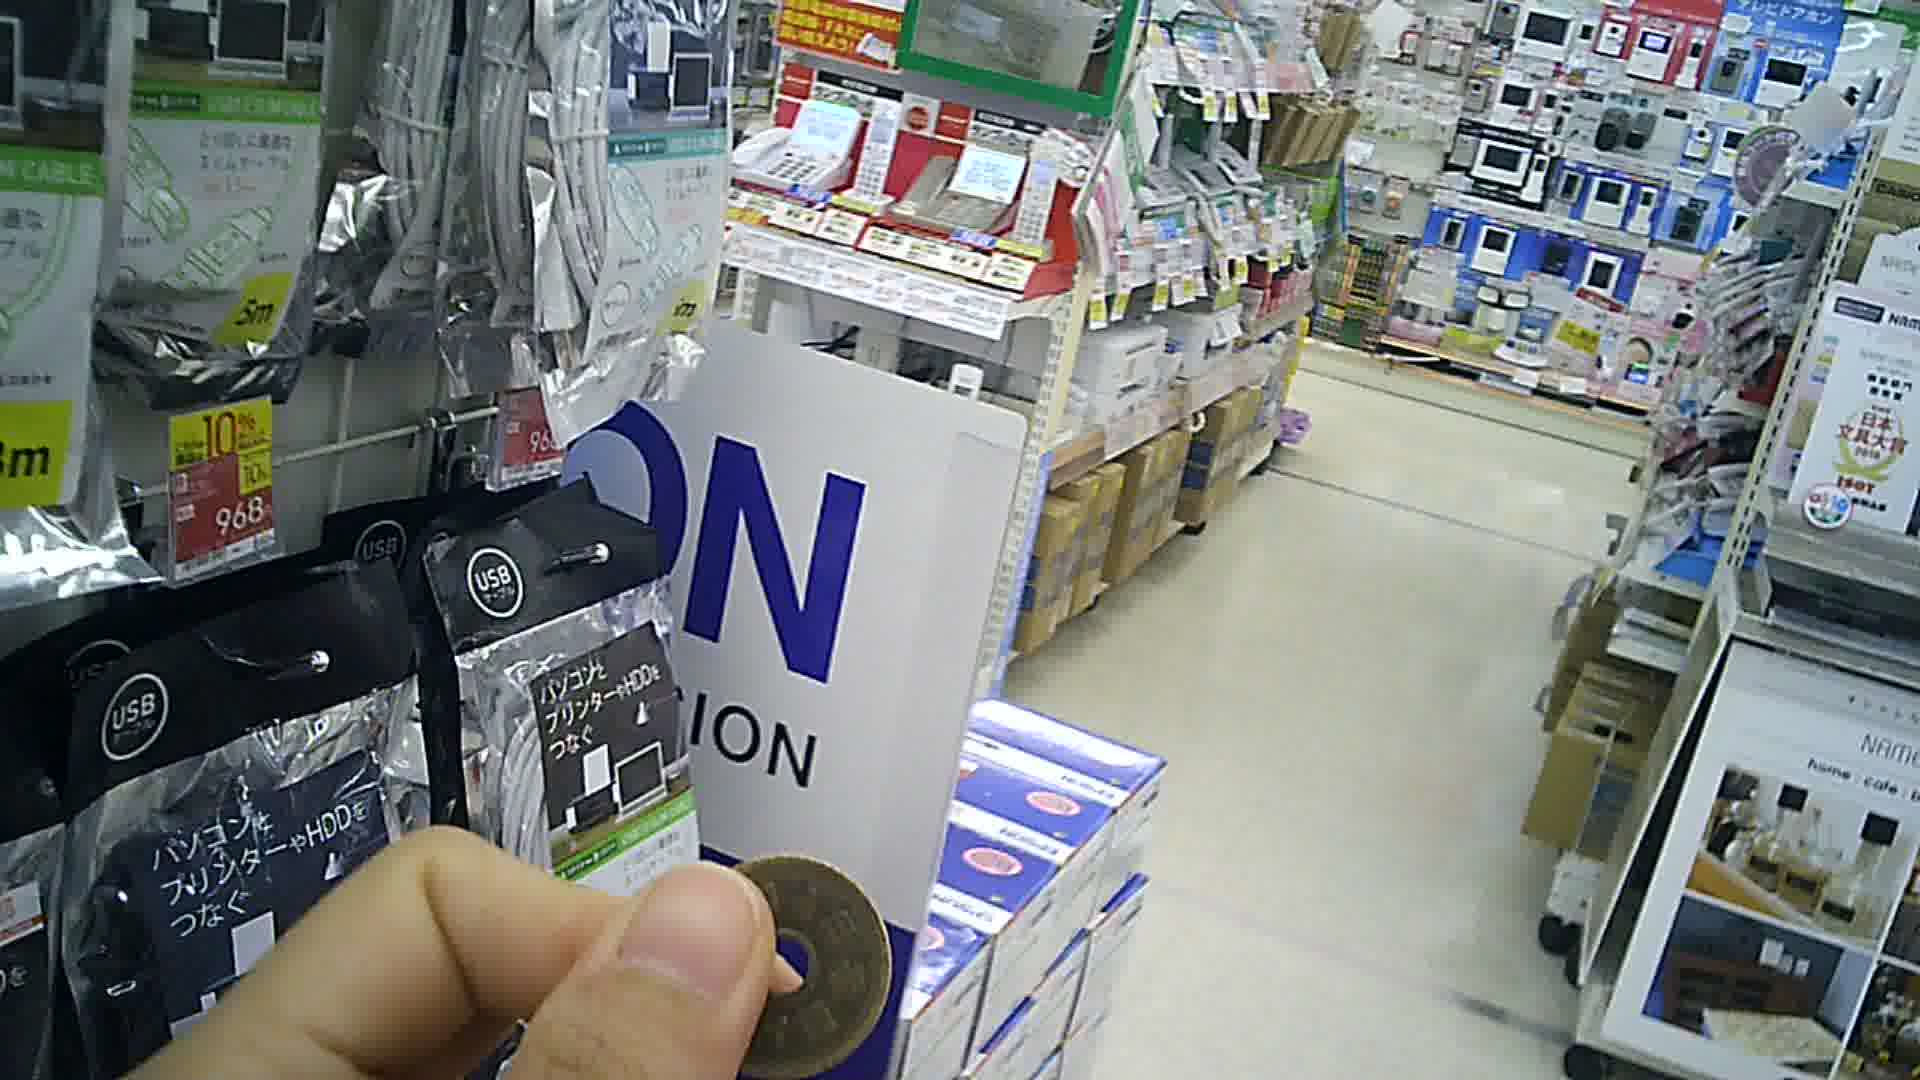5 Yen: (694, 847, 901, 1079)
